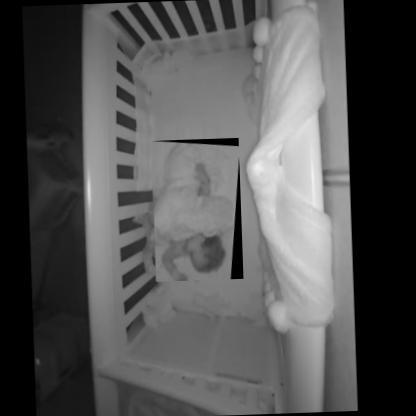baby: (154, 162, 234, 281)
